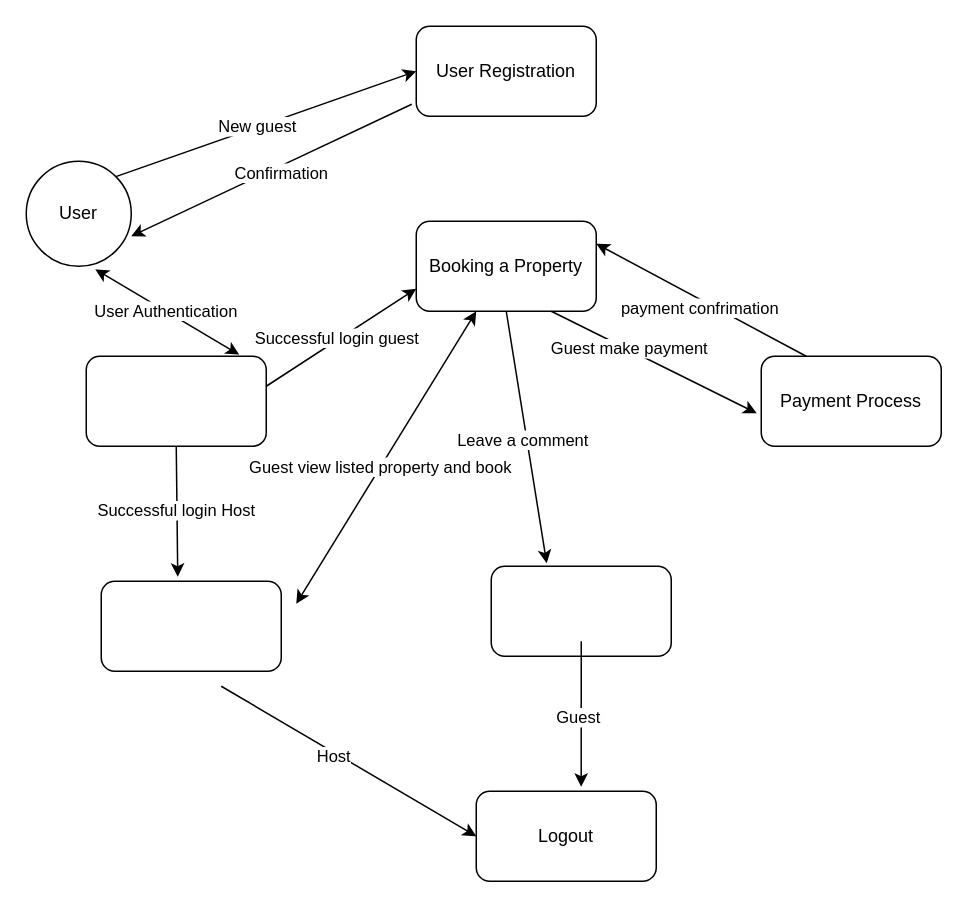
Image size: 968x908. Some labels were removed from this diagram. The centre of each missing label's shape, as x and y in pixels:
"Leaving a Review" belongs at [580,610].
"Login" belongs at [175,400].
"Property Listing" belongs at [190,625].
